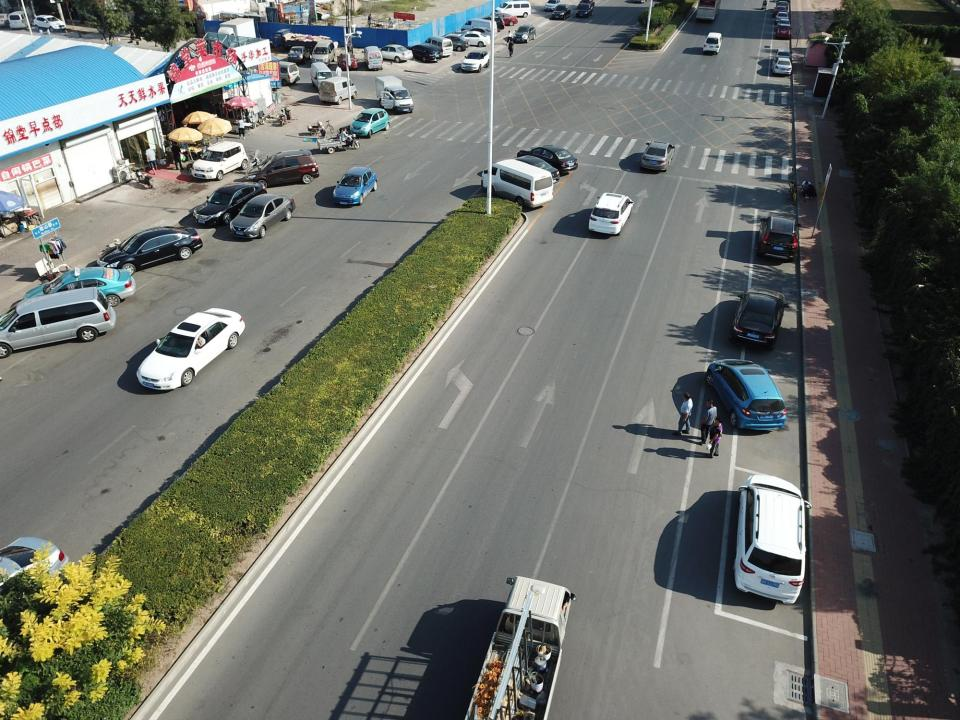bus: (695, 0, 722, 22)
car: (730, 474, 812, 606), (135, 307, 246, 393), (0, 286, 117, 361), (706, 358, 786, 431), (21, 266, 136, 314), (96, 225, 203, 276), (729, 287, 789, 350), (192, 182, 268, 227), (244, 149, 320, 189), (230, 193, 296, 239), (191, 139, 249, 180), (756, 215, 802, 263), (494, 155, 560, 188), (588, 192, 634, 236), (516, 144, 578, 175), (333, 166, 377, 206), (350, 108, 390, 138), (640, 140, 676, 172), (374, 44, 414, 63), (461, 50, 490, 73), (405, 44, 442, 62), (451, 31, 491, 47), (436, 34, 470, 52), (33, 15, 66, 33), (474, 15, 505, 33), (460, 27, 497, 42), (512, 24, 535, 43), (485, 13, 518, 26), (287, 46, 311, 63), (771, 57, 792, 76), (336, 52, 358, 70), (772, 49, 793, 63), (552, 4, 570, 20), (775, 24, 793, 39), (576, 3, 594, 18), (0, 12, 16, 27), (774, 11, 790, 25), (772, 5, 788, 18), (544, 0, 561, 12), (776, 18, 790, 31), (577, 0, 595, 10), (774, 1, 790, 12)
truck: (455, 574, 577, 720), (375, 76, 414, 115), (270, 28, 330, 53)
van: (480, 159, 554, 208), (319, 76, 357, 105), (262, 61, 301, 86), (460, 18, 498, 41), (310, 62, 335, 93), (310, 39, 336, 67), (422, 36, 453, 57), (494, 1, 532, 18), (361, 46, 384, 72), (703, 32, 723, 55), (8, 11, 31, 30)
